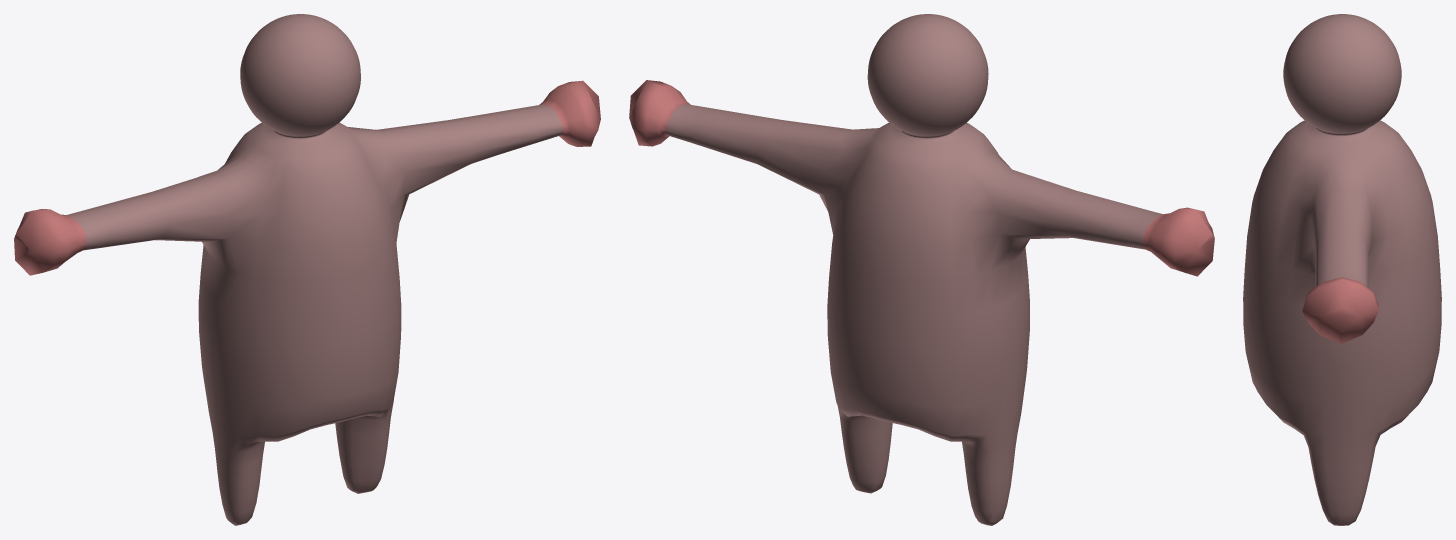
Rendered from Blobby.fbx.
3 views of the same model, side by side, from view 1: azimuth 30°, elevation 25°; view 2: azimuth 150°, elevation 25°; view 3: azimuth 270°, elevation 25° (orthographic). The views are drawn at different scales.
Visible parts, largest first — view 1: pSphere1; view 2: pSphere1; view 3: pSphere1.
Boxes of the visible parts, x1,y1,x2,y2 form: pSphere1: (14,14,600,525); pSphere1: (629,14,1214,525); pSphere1: (1243,14,1441,525).
Size of the model in its own units: 10.85 by 8.68 by 3.27.
